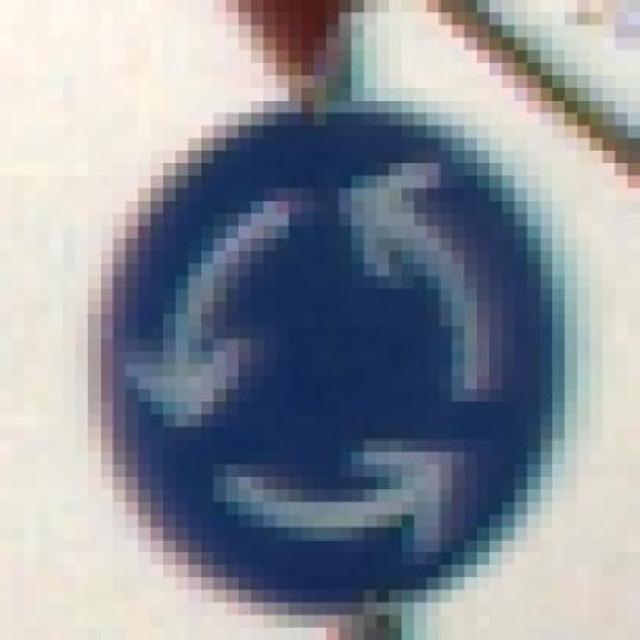Round-About: (75, 62, 602, 615)
